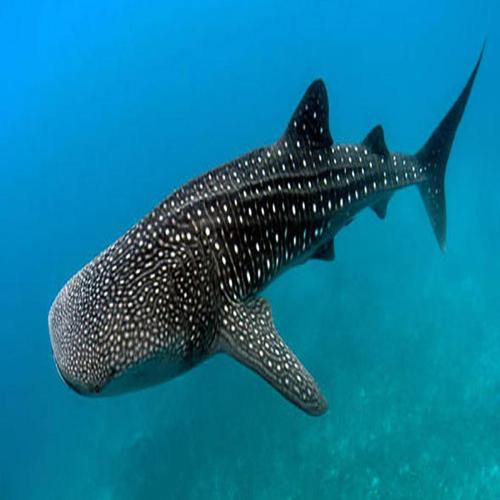shark-endangered: (47, 32, 488, 418)
